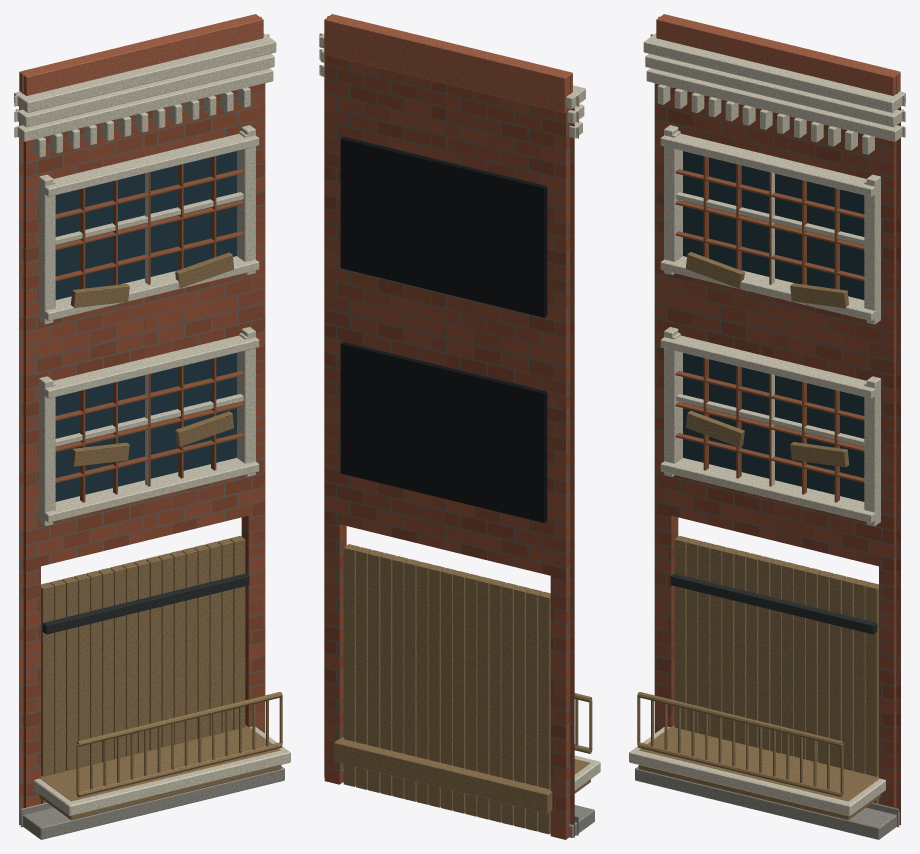
The model's file is WRHS2_lod1.glb.
The picture shows the model from 3 angles, left to right: view 1: azimuth 30°, elevation 25°; view 2: azimuth 150°, elevation 25°; view 3: azimuth 330°, elevation 25°; orthographic projection.
Visible parts, largest first — view 1: WRHS2_FRONT_LOD1; view 2: WRHS2_FRONT_LOD1; view 3: WRHS2_FRONT_LOD1.
Part boxes in pixels (left/top/right/bottom): WRHS2_FRONT_LOD1: left=14, top=14, right=290, bottom=839; WRHS2_FRONT_LOD1: left=319, top=14, right=600, bottom=839; WRHS2_FRONT_LOD1: left=629, top=14, right=905, bottom=839.
Bounding box in the file's own units: 3.44 × 9.66 × 1.1.
Materials: 10 (8 with a texture image).
